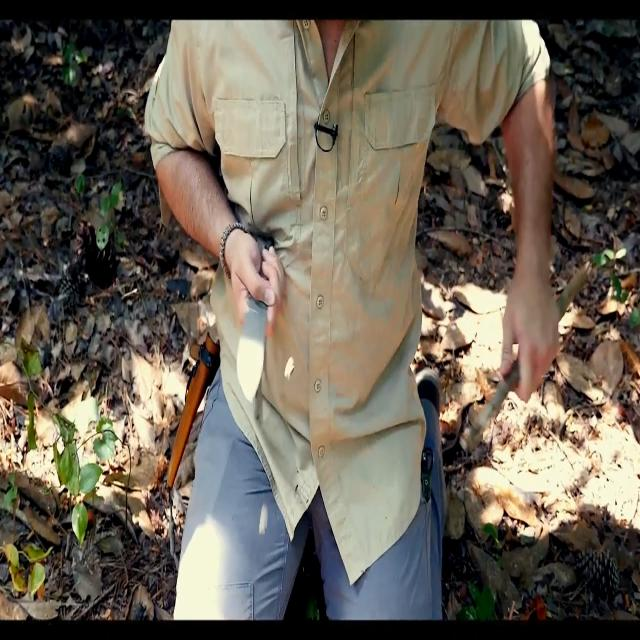knife: (238, 227, 277, 418)
